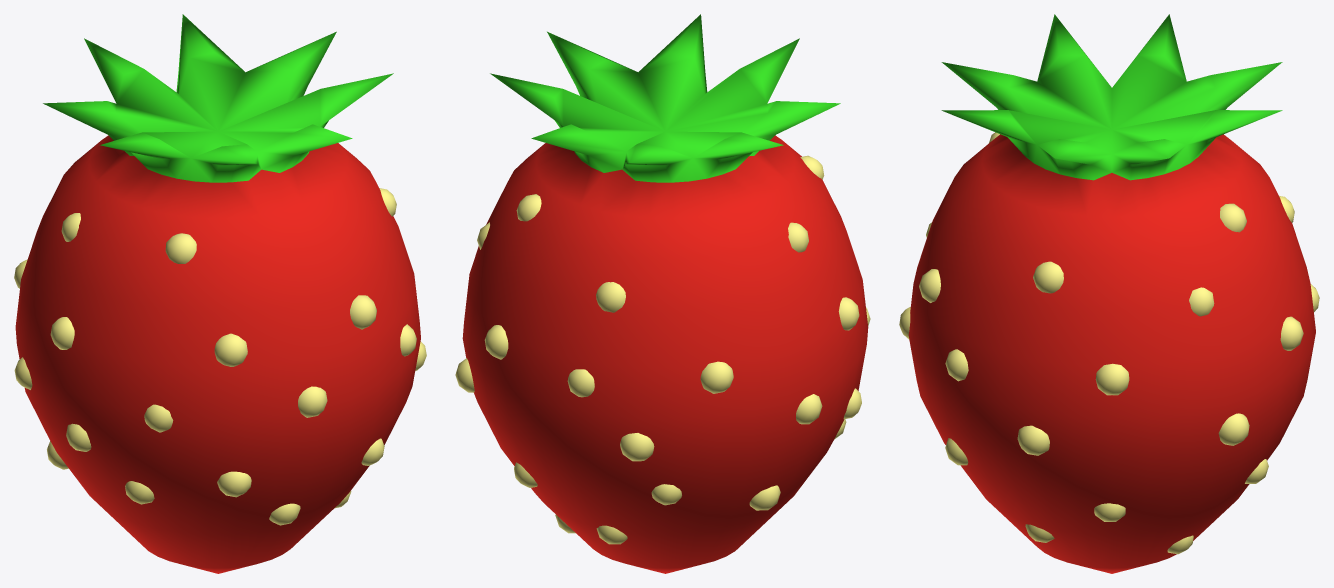
File: Strawberry.glb
3 renders of one model, left to right at view 1: azimuth 30°, elevation 25°; view 2: azimuth 150°, elevation 25°; view 3: azimuth 270°, elevation 25°, orthographic.
Parts seen in each view (by area): view 1: Cylinder; view 2: Cylinder; view 3: Cylinder.
Boxes of the visible parts, x1,y1,x2,y2 form: Cylinder: [14, 14, 426, 573]; Cylinder: [455, 14, 870, 573]; Cylinder: [899, 14, 1319, 573].
Size of the model in its own units: 1.79 by 2.31 by 1.8.
